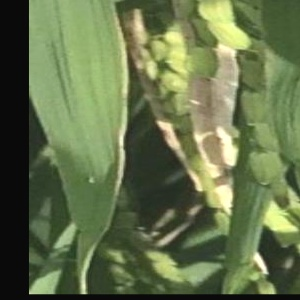Leaf_Blast: (41, 7, 128, 191)
